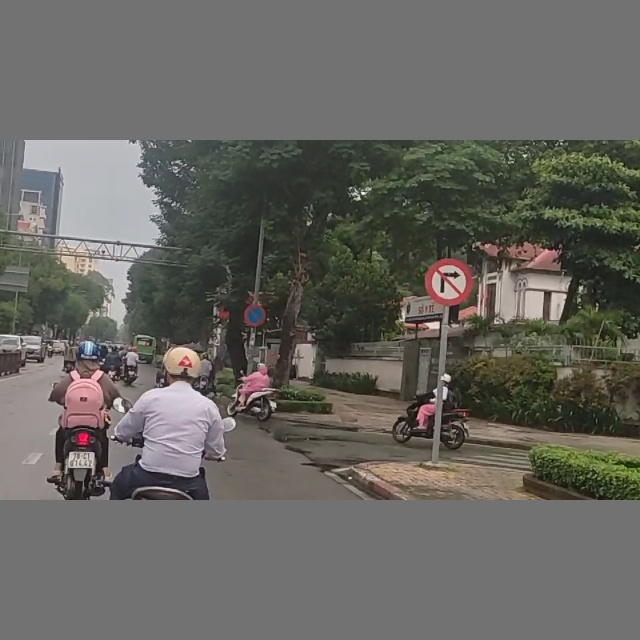P.123b: (423, 259, 473, 307)
P.131a: (243, 303, 266, 327)
